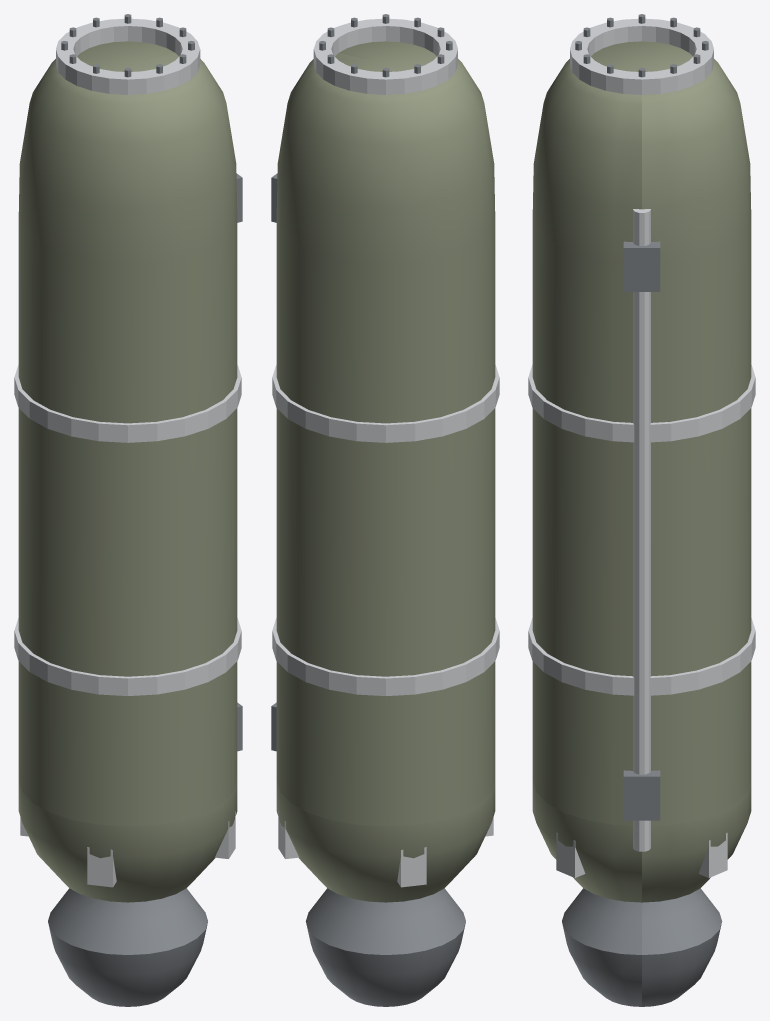
File: cold-war-missile-silo-and-command-bunker-missile-first-64884dfa__15653.glb
3 renders of one model, left to right at view 1: azimuth 30°, elevation 25°; view 2: azimuth 150°, elevation 25°; view 3: azimuth 270°, elevation 25°, orthographic.
Parts seen in each view (by area): view 1: missile-first-stage; view 2: missile-first-stage; view 3: missile-first-stage.
Part boxes in pixels (x1,y1,x2,y2): missile-first-stage: (14, 14, 242, 1006); missile-first-stage: (271, 14, 499, 1006); missile-first-stage: (528, 14, 755, 1006).
Size of the model in its own units: 1.94 by 8.6 by 1.87.
